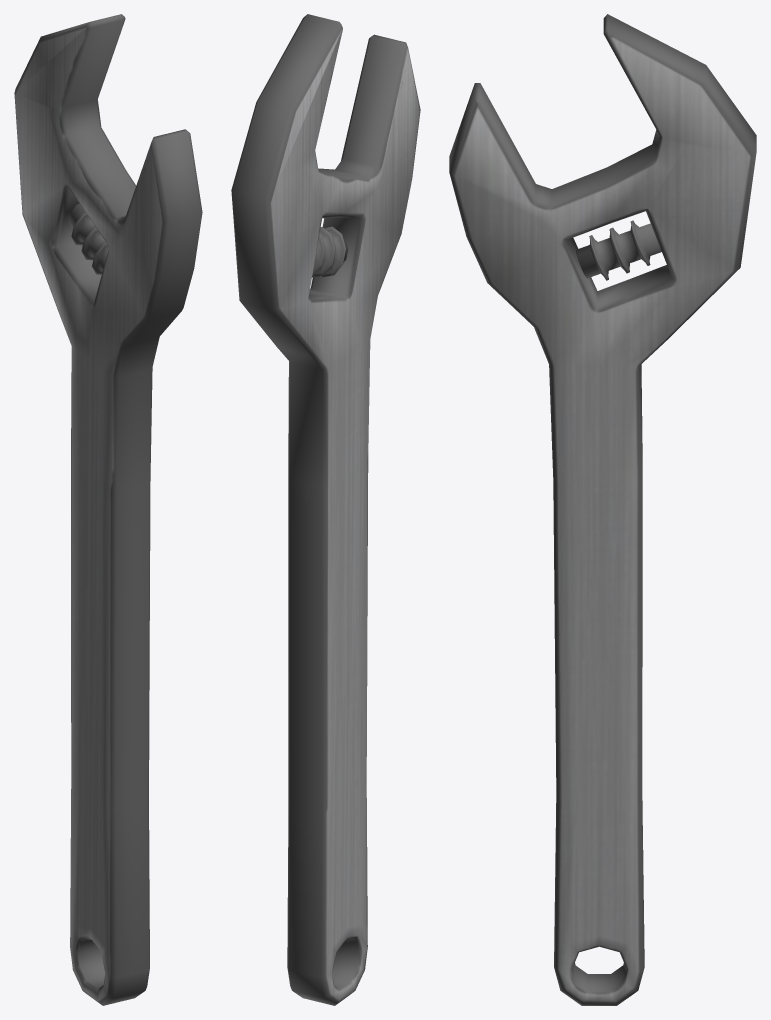
The model's file is 몽키스패너.fbx.
3 renders of one model, left to right at view 1: azimuth 30°, elevation 25°; view 2: azimuth 150°, elevation 25°; view 3: azimuth 270°, elevation 25°, orthographic.
Visible parts, largest first — view 1: Spanner; view 2: Spanner; view 3: Spanner.
Boxes of the visible parts, x1,y1,x2,y2 form: Spanner: (14, 14, 202, 1005); Spanner: (231, 14, 420, 1005); Spanner: (449, 14, 756, 1005).
Bounding box in the file's own units: 1.63 × 11.04 × 38.67.
